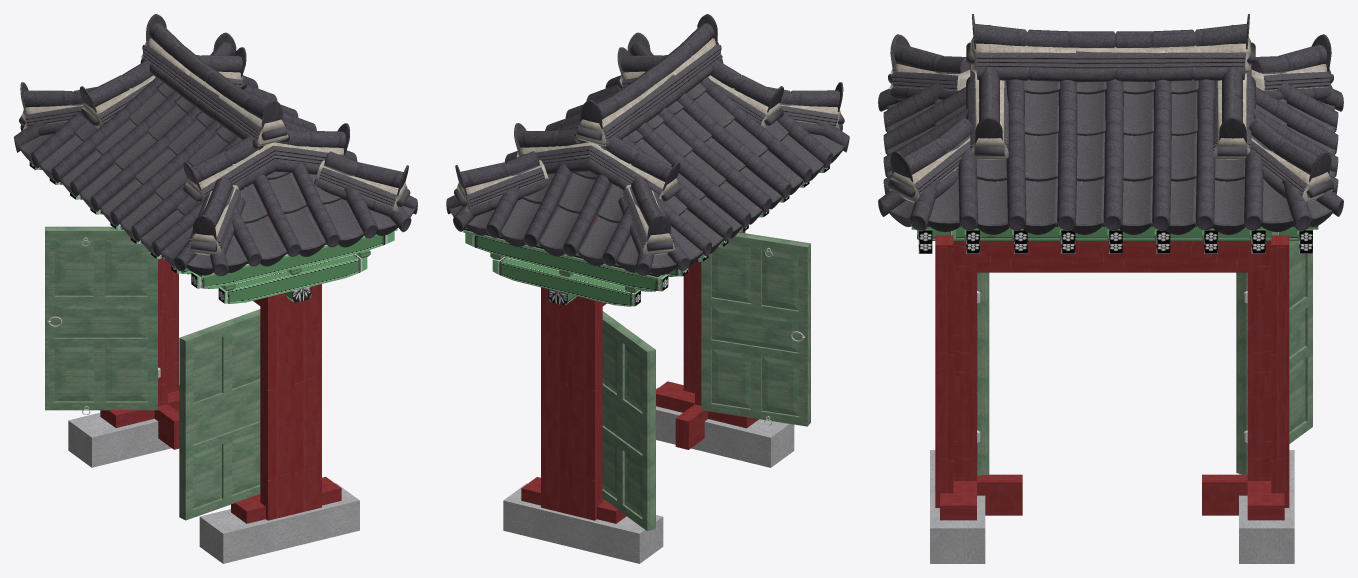
The model's file is SM_Smallgate_1.fbx.
3 renders of one model, left to right at view 1: azimuth 30°, elevation 25°; view 2: azimuth 150°, elevation 25°; view 3: azimuth 270°, elevation 25°, orthographic. The views are drawn at different scales.
Parts seen in each view (by area): view 1: SM_Smallgate_1; view 2: SM_Smallgate_1; view 3: SM_Smallgate_1.
Boxes of the visible parts, x1,y1,x2,y2 form: SM_Smallgate_1: [14, 14, 417, 563]; SM_Smallgate_1: [446, 14, 849, 563]; SM_Smallgate_1: [878, 14, 1343, 563].
Size of the model in its own units: 249 by 353 by 426.
